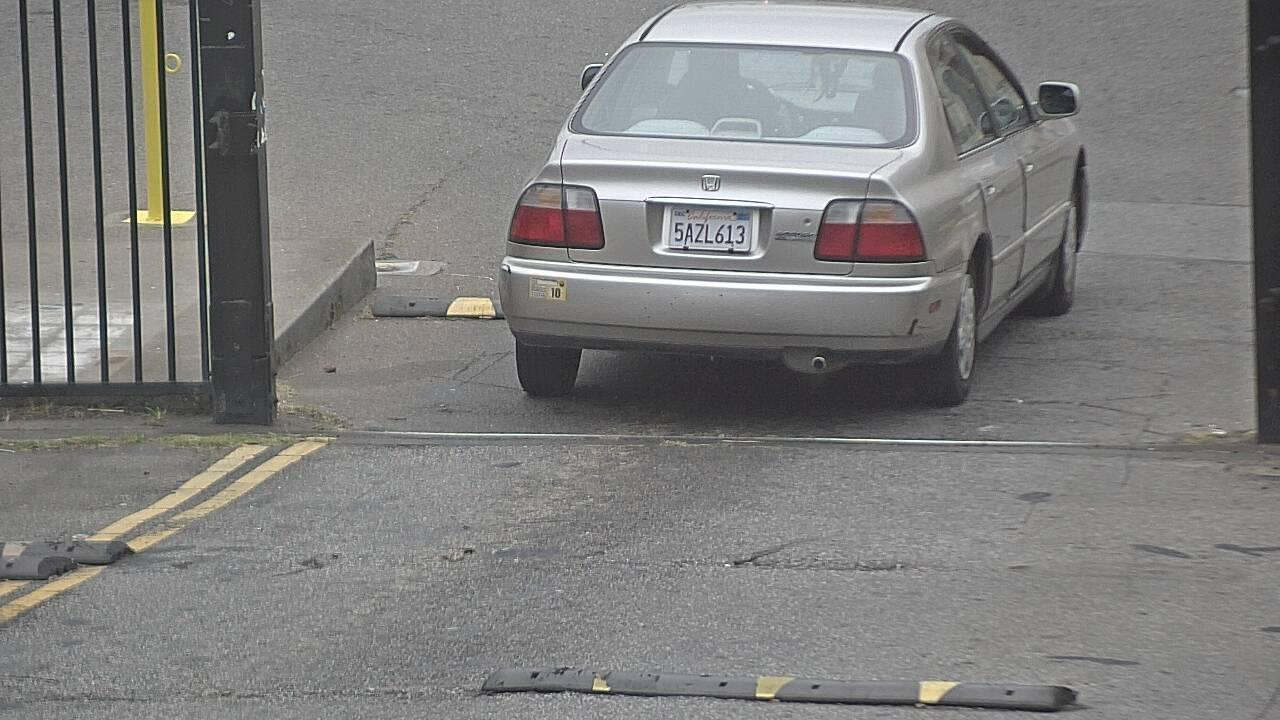placa de veiculo: (655, 184, 782, 287)
